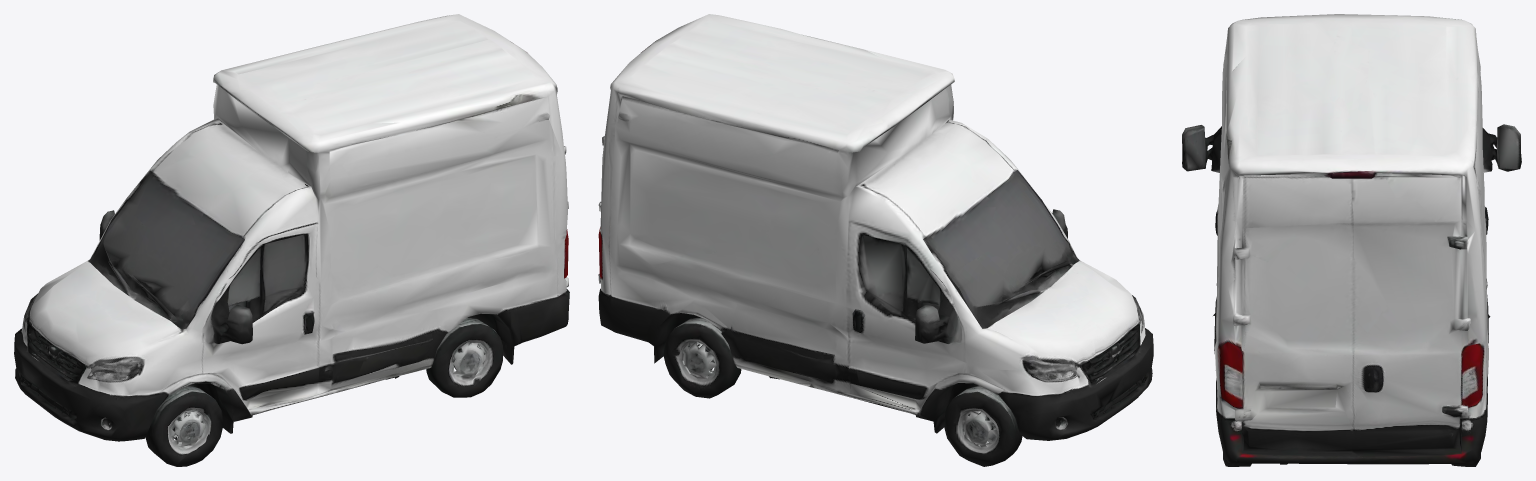
The model's file is van.glb.
The picture shows the model from 3 angles, left to right: view 1: azimuth 30°, elevation 25°; view 2: azimuth 150°, elevation 25°; view 3: azimuth 270°, elevation 25°; orthographic projection. The views are drawn at different scales.
Visible parts, largest first — view 1: tripo_node_69d93b96-e5ac-4385-add8-8c50e5786369; view 2: tripo_node_69d93b96-e5ac-4385-add8-8c50e5786369; view 3: tripo_node_69d93b96-e5ac-4385-add8-8c50e5786369.
Boxes of the visible parts, bbox=[...] form: tripo_node_69d93b96-e5ac-4385-add8-8c50e5786369: bbox=[14, 14, 569, 466]; tripo_node_69d93b96-e5ac-4385-add8-8c50e5786369: bbox=[598, 14, 1153, 466]; tripo_node_69d93b96-e5ac-4385-add8-8c50e5786369: bbox=[1182, 14, 1521, 466].
Size of the model in its own units: 0.9978 by 0.5865 by 0.5054.
Materials: 1 (1 with a texture image).
